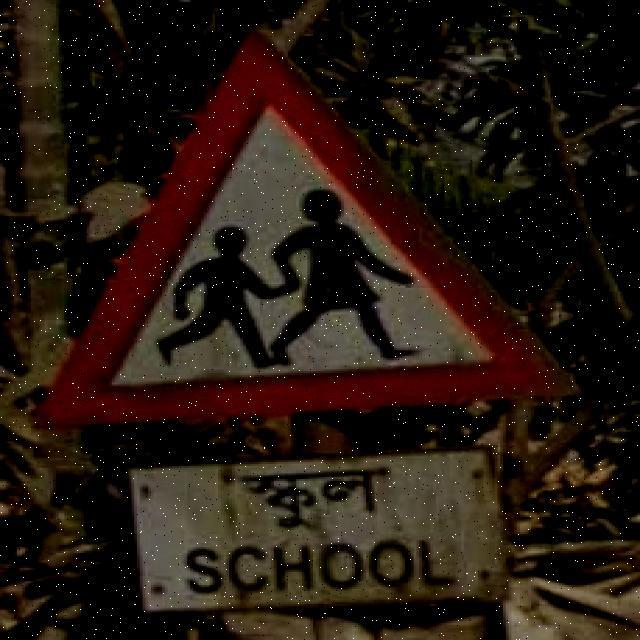School-in-front: (31, 35, 590, 613)
